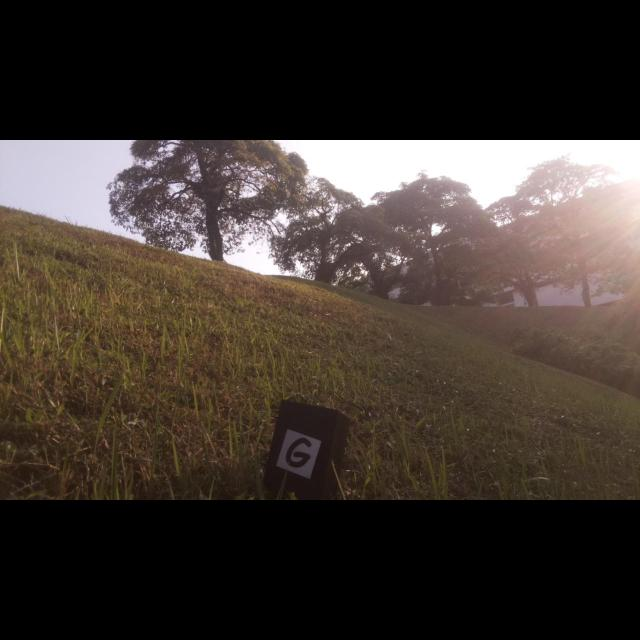G: (286, 438, 312, 467)
